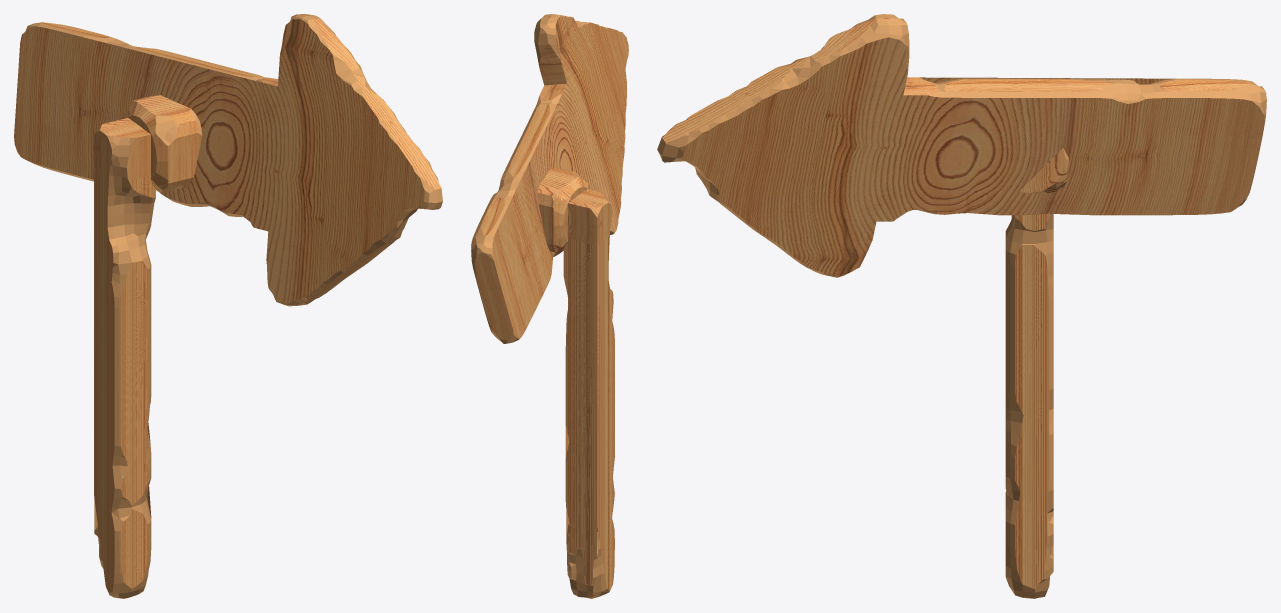
File: oklar.fbx
The picture shows the model from 3 angles, left to right: view 1: azimuth 30°, elevation 25°; view 2: azimuth 150°, elevation 25°; view 3: azimuth 270°, elevation 25°; orthographic projection. The views are drawn at different scales.
Visible parts, largest first — view 1: Plane.001_dmg, Cube.003_dmg; view 2: Plane.001_dmg, Cube.003_dmg; view 3: Plane.001_dmg, Cube.003_dmg.
Boxes of the visible parts, x1,y1,x2,y2 form: Plane.001_dmg: [14, 14, 442, 306]; Cube.003_dmg: [94, 95, 202, 598]; Plane.001_dmg: [471, 14, 628, 343]; Cube.003_dmg: [538, 168, 614, 598]; Plane.001_dmg: [657, 14, 1266, 277]; Cube.003_dmg: [1005, 148, 1069, 598].
Bounding box in the file's own units: 119 × 403 × 349.
